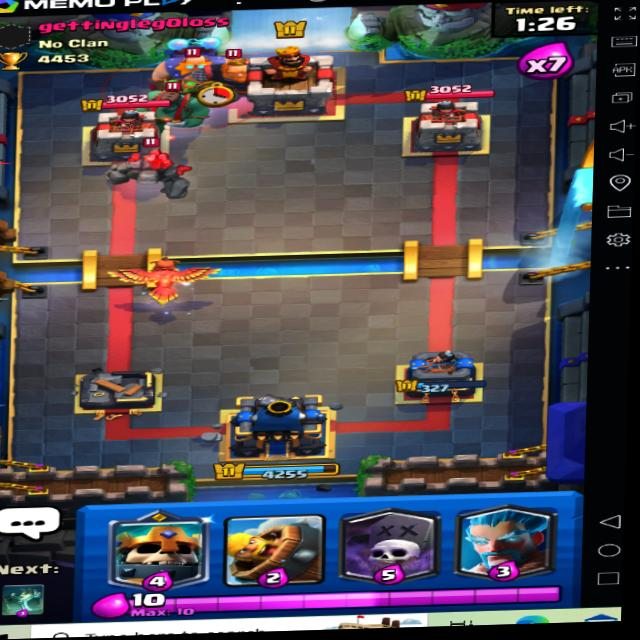electro-giant: (139, 34, 247, 101)
goblin-giant: (133, 72, 214, 133)
golem: (103, 140, 193, 198)
royal-giant: (192, 46, 271, 107)
